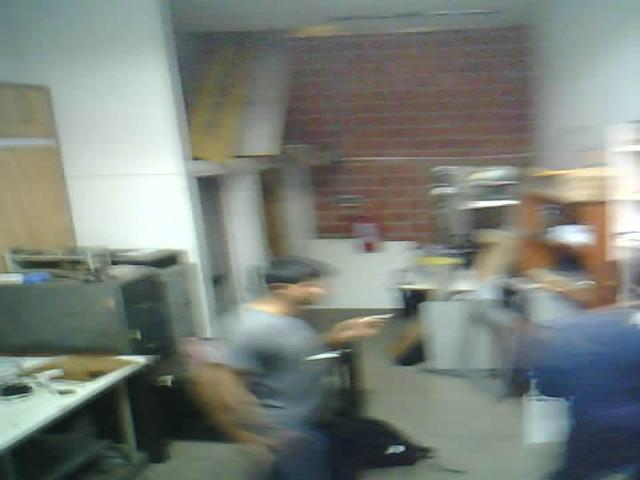person: (201, 239, 432, 480), (467, 185, 640, 480)
